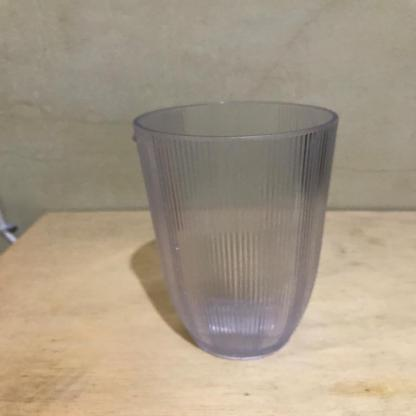glass: (142, 96, 336, 364)
